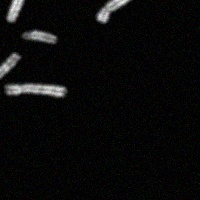chromosome: (0, 53, 19, 108), (98, 0, 144, 21), (6, 83, 66, 99), (7, 0, 32, 21), (22, 30, 57, 44)
